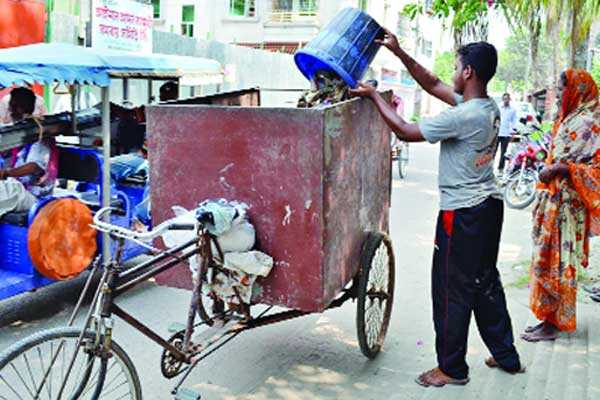garbagevan: (2, 83, 398, 400)
motorbike: (502, 113, 552, 208)
rickshaw: (391, 94, 410, 180)
